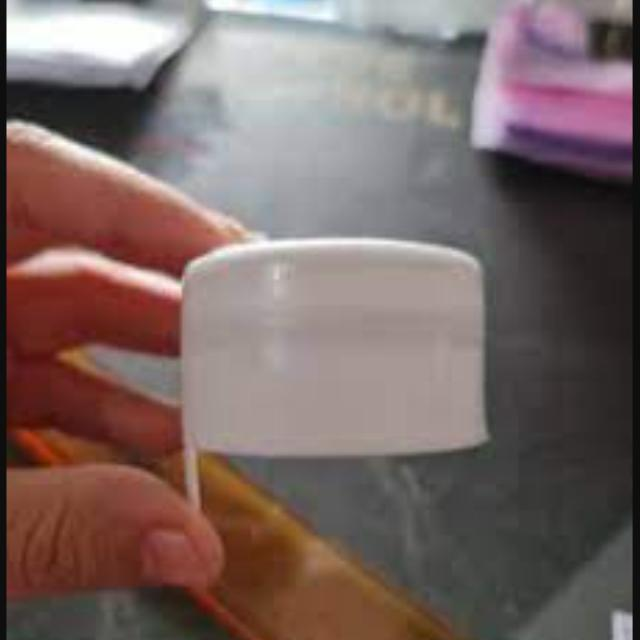TutupGalon: (166, 204, 512, 560)
